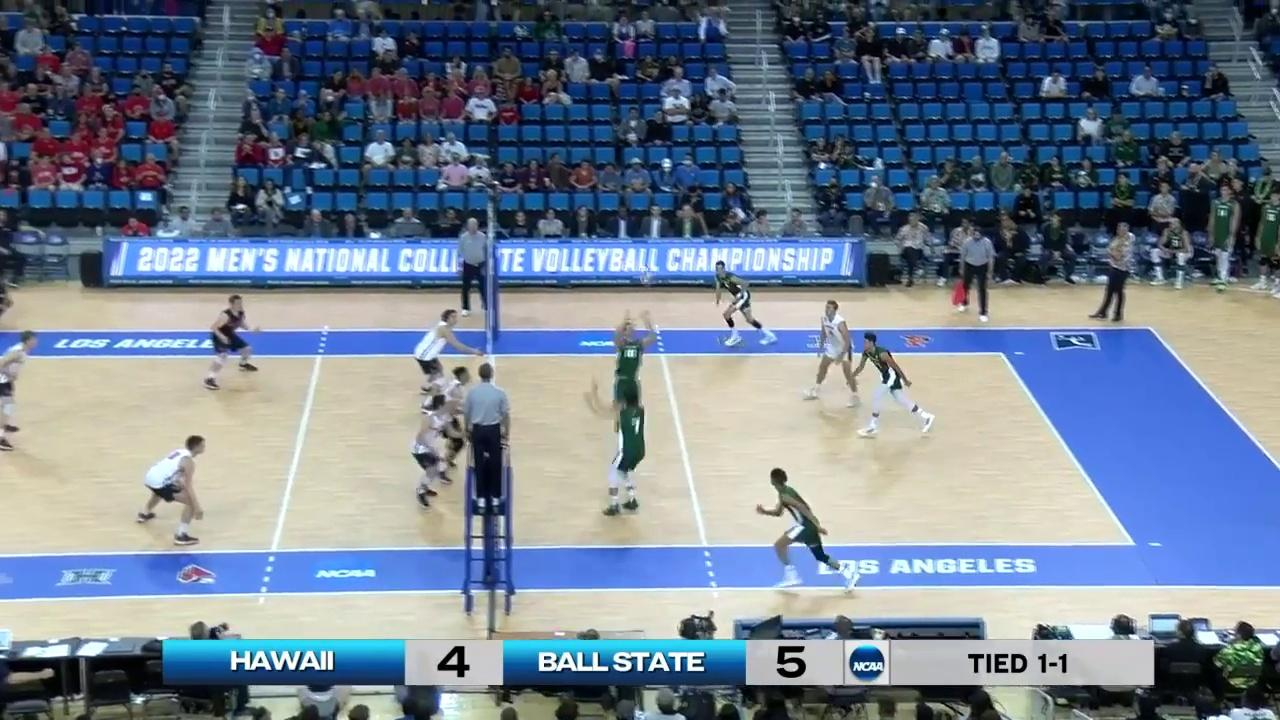player: (750, 469, 852, 594), (850, 332, 937, 437), (136, 436, 213, 544), (414, 309, 478, 411), (804, 299, 860, 402), (607, 313, 655, 433), (711, 261, 778, 346), (606, 386, 649, 518), (203, 295, 259, 390), (424, 363, 468, 481), (410, 394, 455, 508), (0, 331, 36, 450)
refree: (462, 364, 514, 513), (957, 230, 994, 322), (459, 216, 492, 316)
